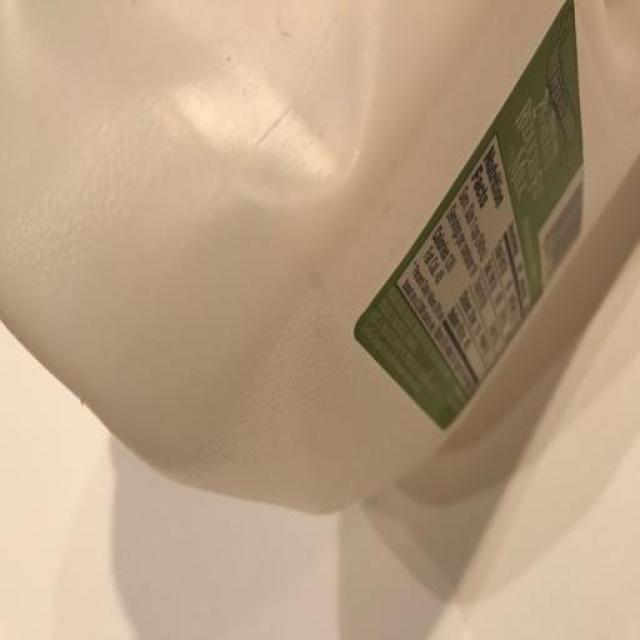plastic_bottle: (1, 8, 640, 534)
